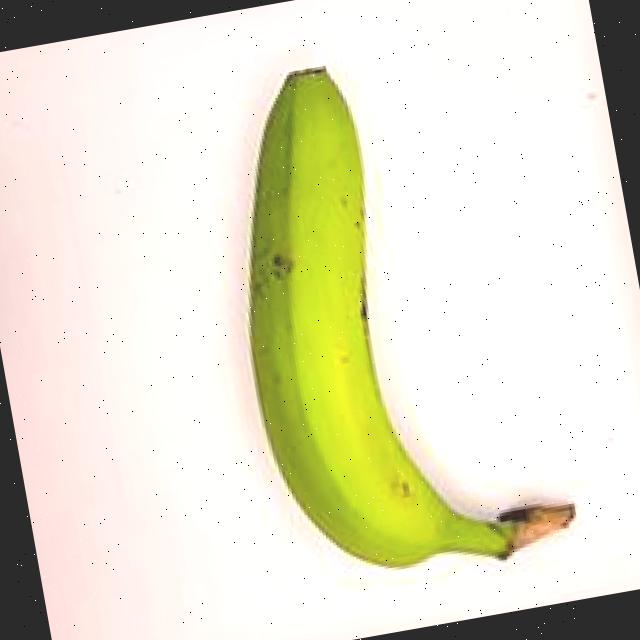Unripe: (170, 0, 601, 627)
